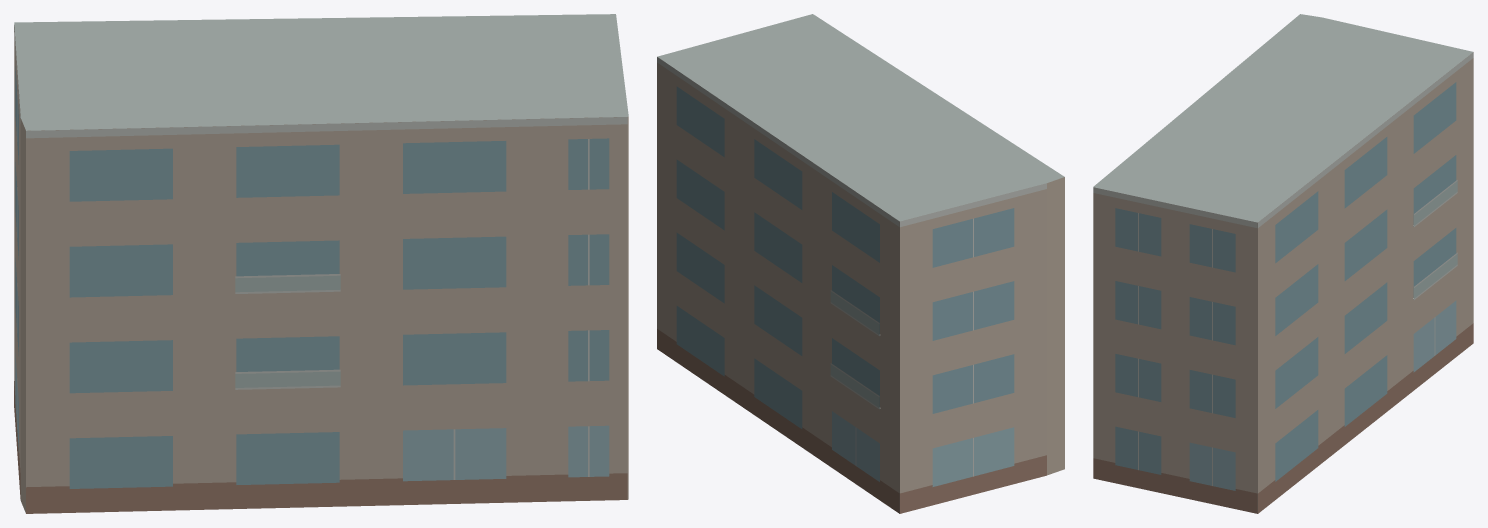
The model's file is survey-upis-32886619.glb.
3 views of the same model, side by side, from view 1: azimuth 30°, elevation 25°; view 2: azimuth 150°, elevation 25°; view 3: azimuth 270°, elevation 25° (orthographic). The views are drawn at different scales.
Parts seen in each view (by area): view 1: survey-upis-32886619.tmp; view 2: survey-upis-32886619.tmp; view 3: survey-upis-32886619.tmp.
Part boxes in pixels (left/top/right/bottom): survey-upis-32886619.tmp: left=14, top=14, right=628, bottom=513; survey-upis-32886619.tmp: left=657, top=14, right=1064, bottom=513; survey-upis-32886619.tmp: left=1093, top=14, right=1473, bottom=513.
Bounding box in the file's own units: 19.05 × 12.4 × 14.69.
